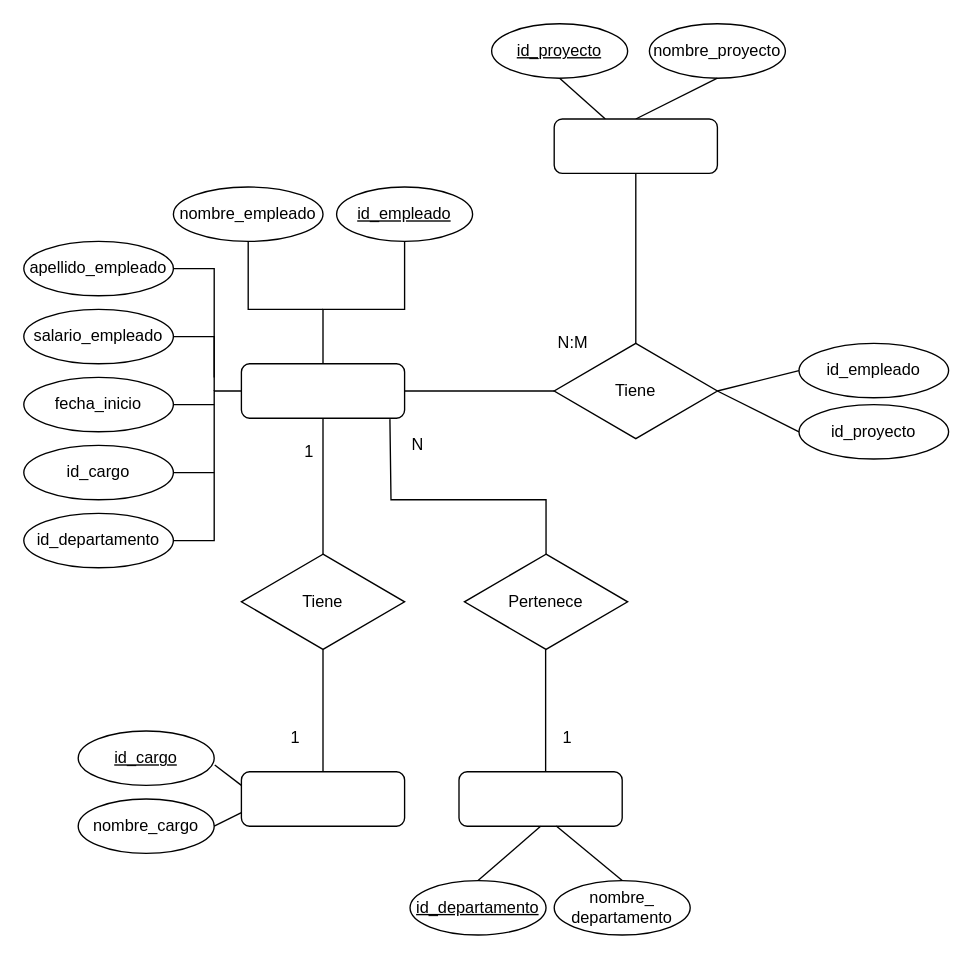
This 972x959 diagram has some shape labels left out. Each missing label, with the centre of its shape:
"Cargos" goes at point (322, 798).
"Departamentos" goes at point (540, 798).
"Empleados" goes at point (322, 390).
"Proyectos" goes at point (635, 145).
